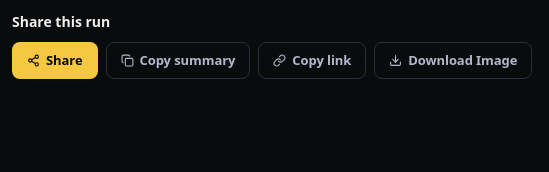
it: ShareRunPanel › copies a text summary and shows a confirmation
Step 1. Click the button with test id "share-run-copy-text-btn" → (178, 60), box [106,42,250,79]
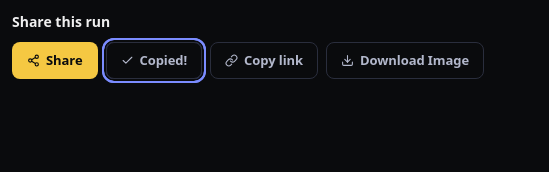
Expected: the button with test id "share-run-copy-text-btn" shows "Copied", [106,42,202,79]
